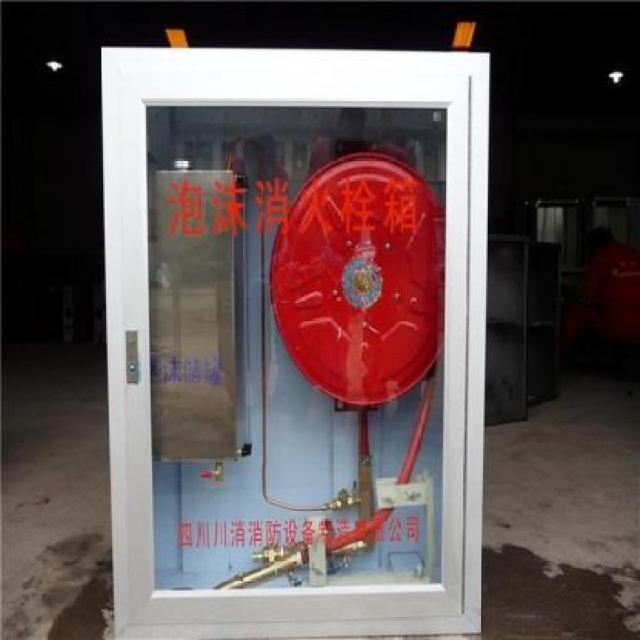firehydrant: (97, 42, 491, 639)
